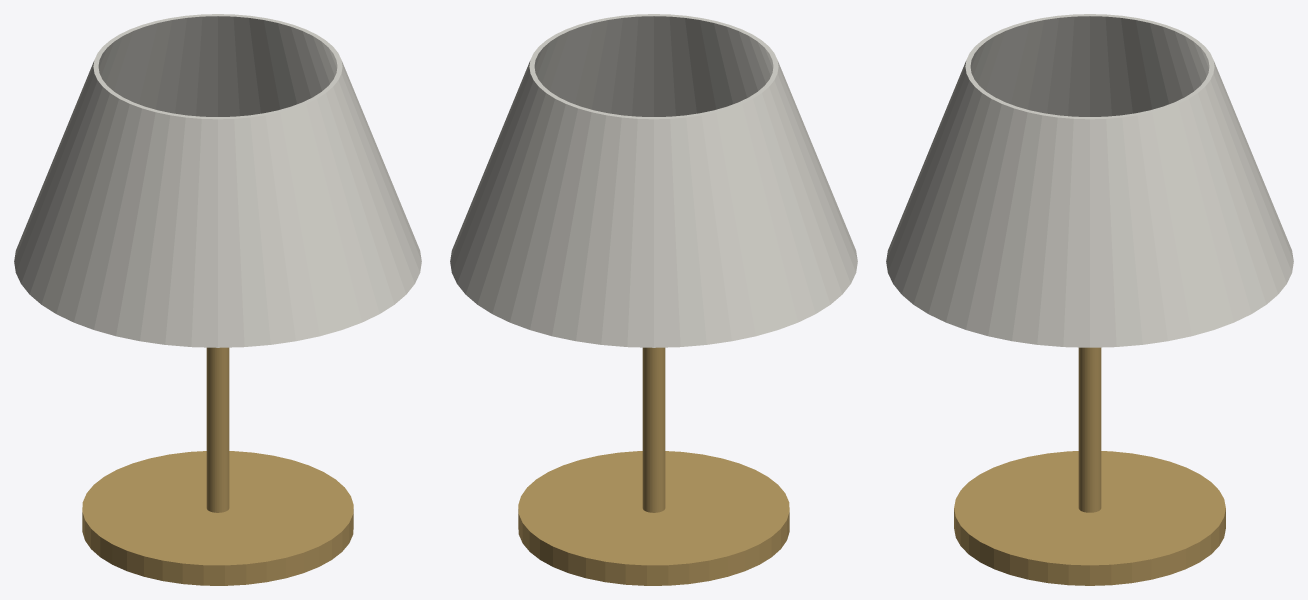
Rendered from 07_table_lamp.glb.
3 views of the same model, side by side, from view 1: azimuth 30°, elevation 25°; view 2: azimuth 150°, elevation 25°; view 3: azimuth 270°, elevation 25° (orthographic).
Size of the model in its own units: 0.36 by 0.45 by 0.36.
